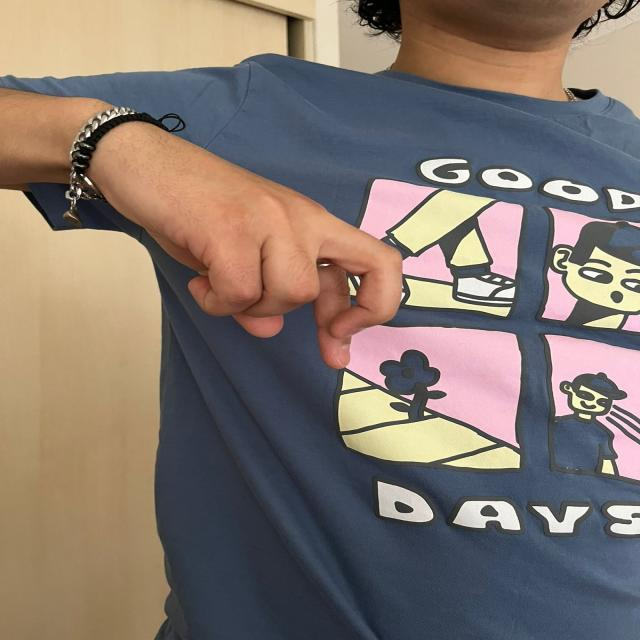P: (84, 100, 407, 375)
